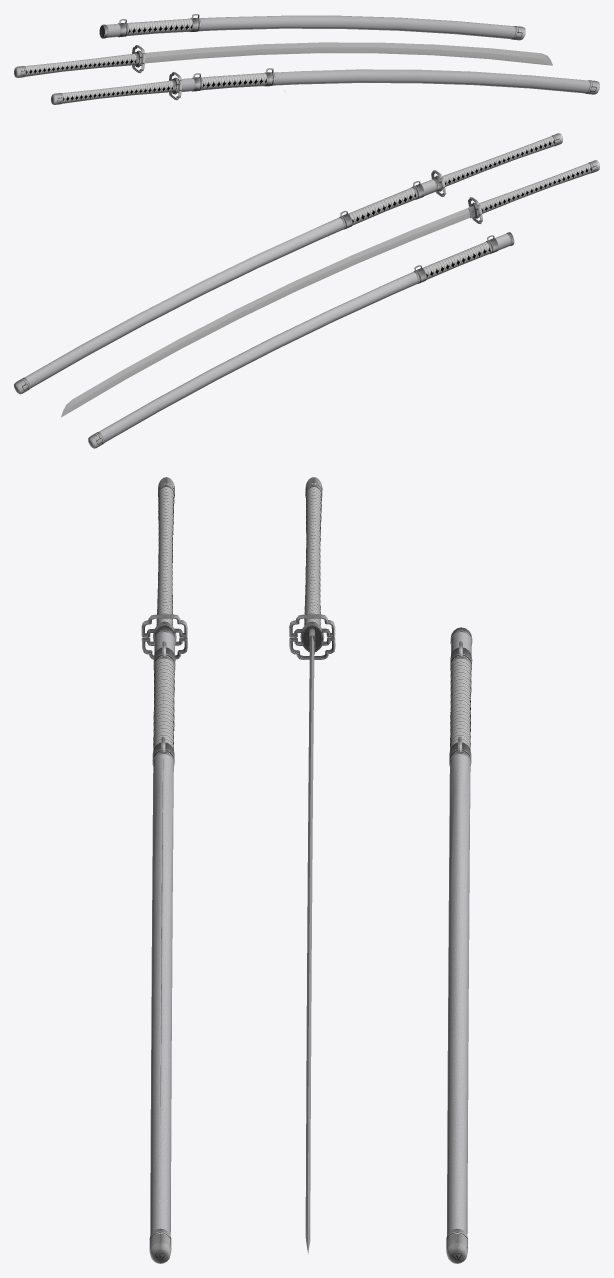
File: njs.dae
3 views of the same model, one above another, from view 1: azimuth 30°, elevation 25°; view 2: azimuth 210°, elevation 25°; view 3: azimuth 270°, elevation 25° (orthographic). The views are drawn at different scales.
Visible parts, largest first — view 1: Material3-material_001-material, Material9-material_001-material, Material9-material-material, Material2-material_001-material.001, Material2-material-material, Material2-material_001-material, Material2-material-material.001, Material1-material_001-material, Material1-material-material.001, Material1-material-material, Material1-material_001-material.001, Material3-material-material; view 2: Material9-material_001-material, Material3-material_001-material, Material9-material-material, Material2-material-material, Material2-material_001-material.001, Material2-material-material.001, Material2-material_001-material, Material1-material-material.001, Material1-material_001-material; view 3: Material9-material_001-material, Material9-material-material, Material3-material_001-material, Material2-material_001-material.001, Material2-material-material, Material2-material-material.001, Material2-material_001-material, Material1-material_001-material.001, Material1-material-material.001, Material1-material_001-material, Material1-material-material.
Boxes of the visible parts, x1,y1,x2,y2 form: Material3-material_001-material: [145, 42, 552, 65]; Material9-material_001-material: [106, 15, 515, 39]; Material9-material-material: [181, 70, 589, 93]; Material2-material_001-material.001: [25, 53, 136, 76]; Material2-material-material: [62, 80, 173, 103]; Material2-material_001-material: [127, 18, 192, 35]; Material2-material-material.001: [201, 73, 266, 90]; Material1-material_001-material: [99, 14, 525, 40]; Material1-material-material.001: [179, 68, 599, 94]; Material1-material-material: [51, 72, 182, 104]; Material1-material_001-material.001: [14, 45, 145, 77]; Material3-material-material: [232, 69, 529, 75]; Material9-material_001-material: [99, 233, 510, 442]; Material3-material_001-material: [61, 208, 470, 417]; Material9-material-material: [25, 179, 436, 388]; Material2-material-material: [442, 136, 554, 186]; Material2-material_001-material.001: [479, 163, 591, 213]; Material2-material-material.001: [348, 187, 416, 225]; Material2-material_001-material: [423, 242, 490, 279]; Material1-material-material.001: [14, 178, 439, 394]; Material1-material_001-material: [88, 232, 514, 448]; Material9-material_001-material: [447, 632, 471, 1235]; Material9-material-material: [150, 632, 174, 1235]; Material3-material_001-material: [305, 635, 314, 1254]; Material2-material_001-material.001: [304, 487, 321, 625]; Material2-material-material: [156, 487, 174, 625]; Material2-material-material.001: [153, 658, 174, 749]; Material2-material_001-material: [450, 658, 471, 749]; Material1-material_001-material.001: [289, 477, 335, 659]; Material1-material-material.001: [149, 627, 175, 1263]; Material1-material_001-material: [446, 627, 472, 1263]; Material1-material-material: [141, 477, 187, 659].
Bounding box in the file's own units: 2.59 × 0.6803 × 0.5918.
